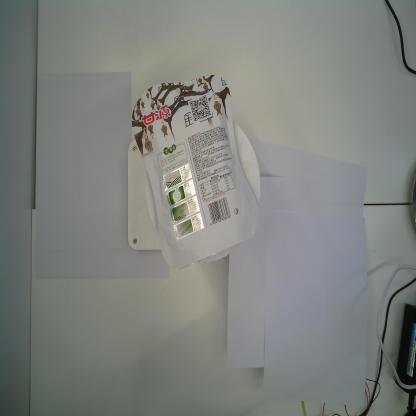Dried Fruit: (131, 73, 259, 271)
